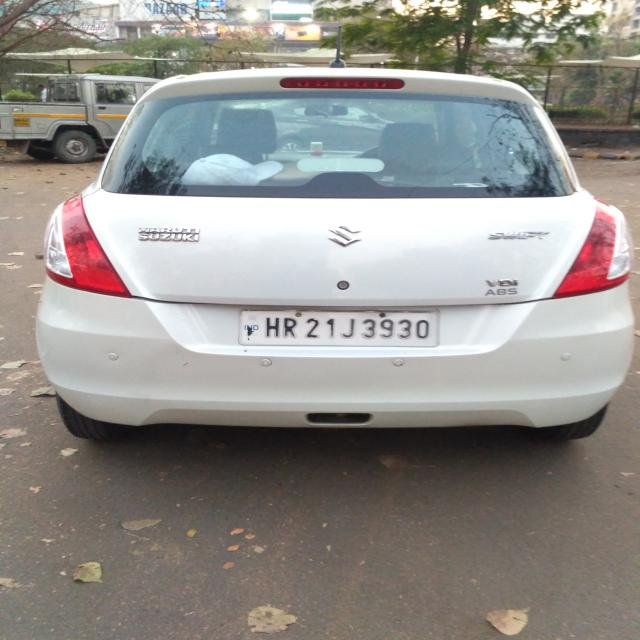Number-Plate: (239, 308, 435, 348)
